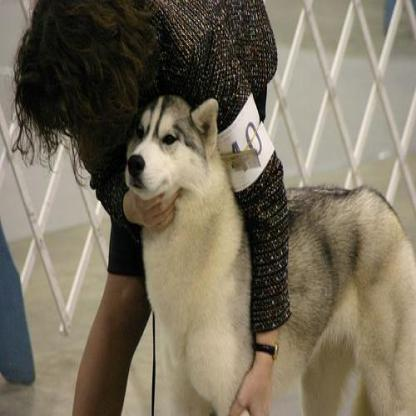Siberian_husky: (126, 91, 414, 414)
